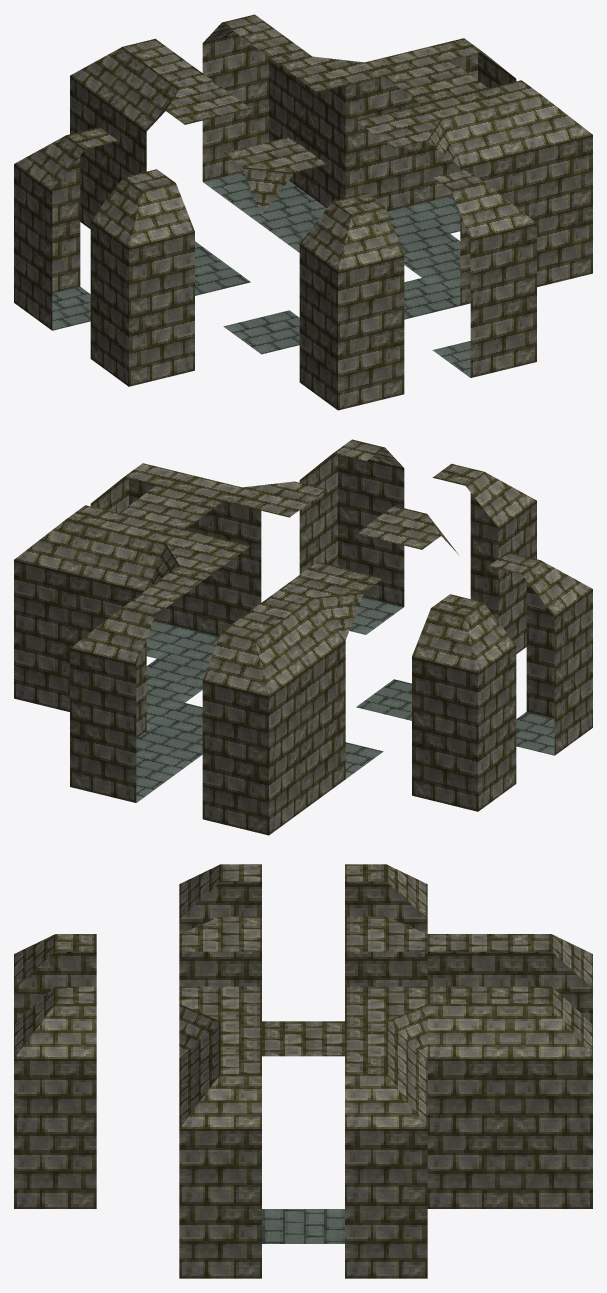
The model's file is walls.glb.
The picture shows the model from 3 angles, top to bottom: view 1: azimuth 30°, elevation 25°; view 2: azimuth 150°, elevation 25°; view 3: azimuth 270°, elevation 25°; orthographic projection. The views are drawn at different scales.
Visible parts, largest first — view 1: wall_inner_corner4-col, wall_inner_corner5-col, wall_inner_corner3-col, wall_inner_corner6-col, wall_inner_corner7-col, wall_inner_corner2-col, wall-col, wall2-col, wall3-col, wall4-col, wall_inner_corner8-col, wall_outer_corner4-col (+5 smaller); view 2: wall_inner_corner8-col, wall_inner_corner6-col, wall_inner_corner7-col, wall_inner_corner3-col, wall_inner_corner5-col, wall_inner_corner-col, wall4-col, wall2-col, wall_inner_corner4-col, wall-col, center-col, wall3-col (+5 smaller); view 3: wall3-col, wall_inner_corner3-col, wall_inner_corner7-col, wall_inner_corner-col, wall_inner_corner2-col, wall_inner_corner6-col, wall_inner_corner5-col, center-col, wall_inner_corner4-col, wall_inner_corner8-col, wall4-col, wall_outer_corner-col (+5 smaller).
Boxes of the visible parts, x1,y1,x2,y2 form: wall_inner_corner4-col: [299, 193, 404, 410]; wall_inner_corner5-col: [90, 169, 194, 386]; wall_inner_corner3-col: [432, 168, 536, 377]; wall_inner_corner6-col: [14, 127, 118, 330]; wall_inner_corner7-col: [202, 14, 307, 209]; wall_inner_corner2-col: [489, 80, 592, 286]; wall-col: [345, 46, 449, 245]; wall2-col: [422, 88, 526, 305]; wall3-col: [241, 28, 345, 237]; wall4-col: [108, 53, 212, 258]; wall_inner_corner8-col: [70, 38, 174, 228]; wall_outer_corner4-col: [223, 137, 327, 354]; wall_inner_corner8-col: [202, 618, 307, 835]; wall_inner_corner6-col: [412, 594, 516, 811]; wall_inner_corner7-col: [70, 593, 174, 802]; wall_inner_corner3-col: [299, 439, 404, 634]; wall_inner_corner5-col: [488, 552, 592, 755]; wall_inner_corner-col: [14, 505, 117, 711]; wall4-col: [241, 590, 345, 806]; wall2-col: [157, 471, 261, 670]; wall_inner_corner4-col: [432, 463, 536, 653]; wall-col: [80, 513, 184, 730]; center-col: [119, 485, 222, 702]; wall3-col: [136, 565, 212, 774]; wall3-col: [427, 986, 510, 1208]; wall_inner_corner3-col: [14, 986, 96, 1208]; wall_inner_corner7-col: [510, 986, 592, 1208]; wall_inner_corner-col: [345, 1056, 427, 1278]; wall_inner_corner2-col: [179, 1056, 261, 1278]; wall_inner_corner6-col: [345, 864, 427, 986]; wall_inner_corner5-col: [179, 864, 261, 986]; center-col: [262, 1021, 344, 1243]; wall_inner_corner4-col: [14, 934, 96, 1023]; wall_inner_corner8-col: [510, 934, 592, 1023]; wall4-col: [427, 934, 510, 986]; wall_outer_corner-col: [345, 986, 427, 1058].
Bounding box in the file's own units: 7 × 2.5 × 7.
Materials: 1 (1 with a texture image).
